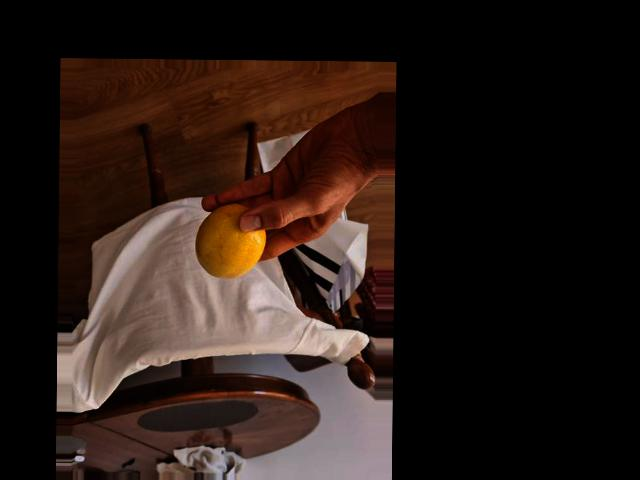lemon: (197, 204, 262, 277)
